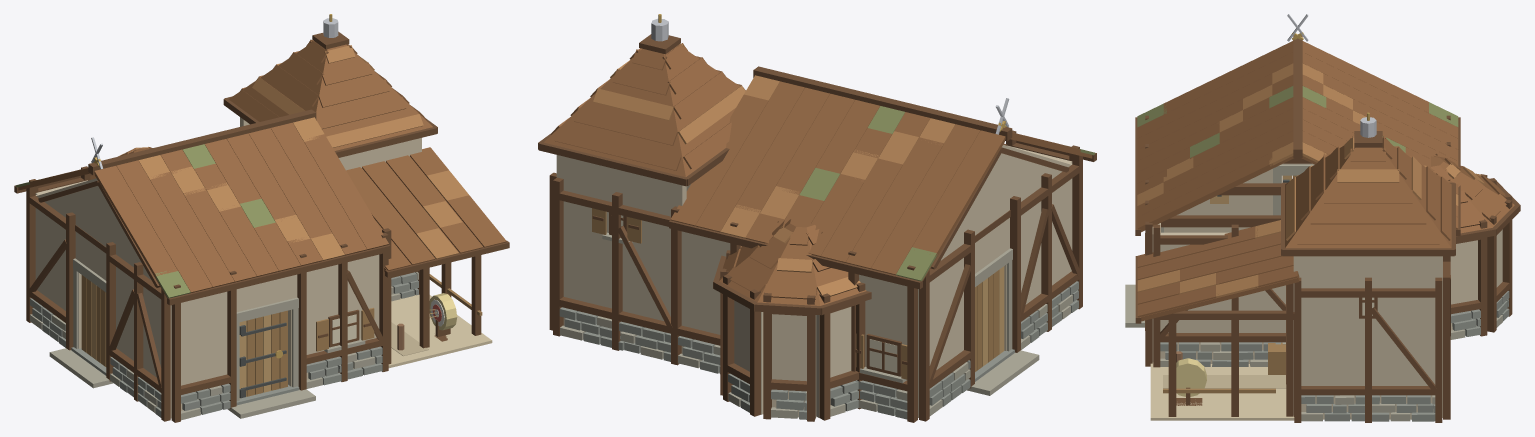
The model's file is holm_combat_hall_v1.glb.
The picture shows the model from 3 angles, left to right: view 1: azimuth 30°, elevation 25°; view 2: azimuth 150°, elevation 25°; view 3: azimuth 270°, elevation 25°; orthographic projection. The views are drawn at different scales.
Visible parts, largest first — view 1: Roof_Workyard_Shingle_Umber, Static_Workyard_Oak_Dark, Static_Workyard_Warm_Limewash, Roof_Workyard_Shingle_Sun, Roof_Workyard_Oak_Dark, Static_Workyard_Fieldstone_Light, Static_Workyard_Fieldstone, Roof_Workyard_Warm_Limewash, Static_Hall_Yard_Sand, road_door_Workyard_Oak_Worn, Roof_Workyard_Shingle_Moss, bank_door_Workyard_Oak_Worn (+7 smaller); view 2: Roof_Workyard_Shingle_Umber, Static_Workyard_Oak_Dark, Static_Workyard_Warm_Limewash, Roof_Workyard_Oak_Dark, Static_Workyard_Fieldstone, Roof_Workyard_Warm_Limewash, Roof_Workyard_Shingle_Sun, Static_Workyard_Fieldstone_Light, Roof_Workyard_Shingle_Moss, bank_door_Workyard_Oak_Worn, Static_Workyard_Oak_Worn, bank_door_Workyard_Fresh_Cut (+2 smaller); view 3: Roof_Workyard_Shingle_Umber, Static_Workyard_Oak_Dark, Static_Workyard_Warm_Limewash, Roof_Workyard_Shingle_Sun, Roof_Workyard_Oak_Dark, Static_Workyard_Fieldstone, Roof_Workyard_Warm_Limewash, Static_Hall_Yard_Sand, Static_Workyard_Fieldstone_Light, Roof_Workyard_Shingle_Moss, Static_Workyard_Oak_Worn, Static_Hall_Yard_Sand_Dark (+2 smaller).
Boxes of the visible parts, x1,y1,x2,y2 form: Roof_Workyard_Shingle_Umber: (18, 39, 506, 297); Static_Workyard_Oak_Dark: (26, 166, 481, 422); Static_Workyard_Warm_Limewash: (35, 180, 379, 418); Roof_Workyard_Shingle_Sun: (118, 45, 468, 260); Roof_Workyard_Oak_Dark: (14, 31, 509, 305); Static_Workyard_Fieldstone_Light: (30, 258, 418, 420); Static_Workyard_Fieldstone: (30, 272, 418, 417); Roof_Workyard_Warm_Limewash: (36, 117, 421, 279); Static_Hall_Yard_Sand: (388, 294, 492, 368); road_door_Workyard_Oak_Worn: (246, 310, 287, 396); Roof_Workyard_Shingle_Moss: (15, 144, 275, 298); bank_door_Workyard_Oak_Worn: (81, 275, 105, 366); Roof_Workyard_Shingle_Umber: (544, 43, 1092, 305); Static_Workyard_Oak_Dark: (549, 130, 1082, 422); Static_Workyard_Warm_Limewash: (563, 145, 1072, 417); Roof_Workyard_Oak_Dark: (538, 34, 1096, 315); Static_Workyard_Fieldstone: (559, 281, 1078, 419); Roof_Workyard_Warm_Limewash: (556, 145, 1071, 260); Roof_Workyard_Shingle_Sun: (593, 43, 955, 296); Static_Workyard_Fieldstone_Light: (560, 232, 1072, 418); Roof_Workyard_Shingle_Moss: (799, 106, 1095, 281); bank_door_Workyard_Oak_Worn: (975, 270, 998, 371); Static_Workyard_Oak_Worn: (592, 208, 907, 379); bank_door_Workyard_Fresh_Cut: (982, 266, 1004, 366); Roof_Workyard_Shingle_Umber: (1137, 41, 1514, 321); Static_Workyard_Oak_Dark: (1145, 115, 1512, 422); Static_Workyard_Warm_Limewash: (1152, 163, 1502, 419); Roof_Workyard_Shingle_Sun: (1137, 63, 1484, 297); Roof_Workyard_Oak_Dark: (1135, 35, 1520, 323); Static_Workyard_Fieldstone: (1160, 291, 1509, 421); Roof_Workyard_Warm_Limewash: (1293, 256, 1442, 288); Static_Hall_Yard_Sand: (1150, 362, 1294, 420); Static_Workyard_Fieldstone_Light: (1125, 164, 1508, 421); Roof_Workyard_Shingle_Moss: (1137, 86, 1458, 157); Static_Workyard_Oak_Worn: (1163, 343, 1285, 393); Static_Hall_Yard_Sand_Dark: (1163, 375, 1286, 388).
Size of the model in its own units: 13.6 by 9.9 by 12.6.
